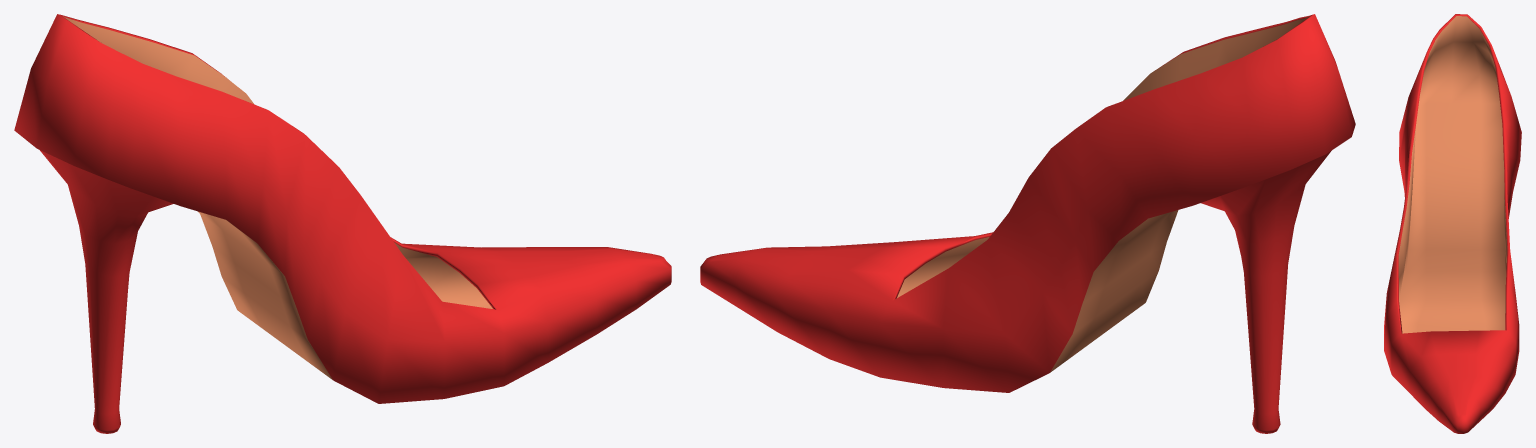
Rendered from Heels.FBX.
3 renders of one model, left to right at view 1: azimuth 30°, elevation 25°; view 2: azimuth 150°, elevation 25°; view 3: azimuth 270°, elevation 25°, orthographic. The views are drawn at different scales.
Visible parts, largest first — view 1: Heels; view 2: Heels; view 3: Heels.
Part boxes in pixels (x1,y1,x2,y2): Heels: (14,14,671,433); Heels: (700,14,1355,433); Heels: (1384,14,1521,433).
Bounding box in the file's own units: 37.9 × 23.86 × 11.87.
